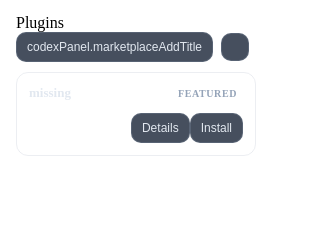
CodexPluginManager details › shows plugin/read failures on the affected card
Click the button "Details" at (160, 128), box [131,113,190,143]
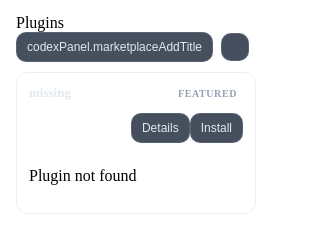
Expected: the text "Plugin not found" is shown, [29,167,137,184]
